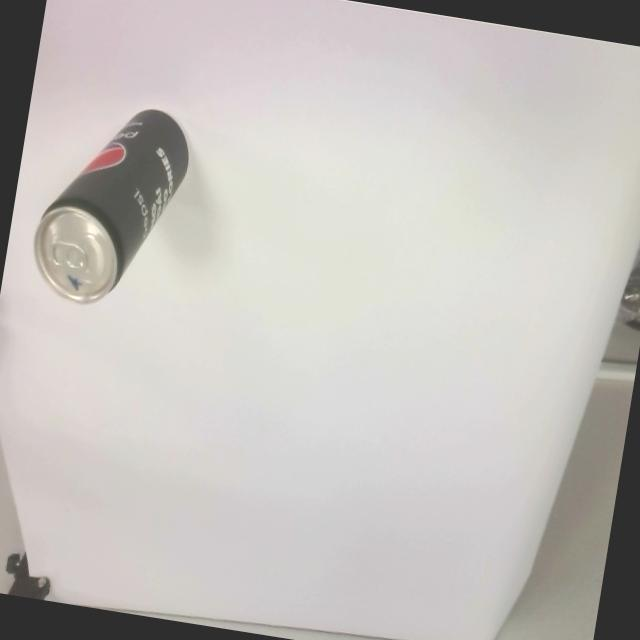debris: (23, 92, 198, 320)
